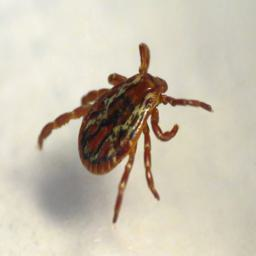Dermacentor variabilis: (63, 24, 232, 206)
